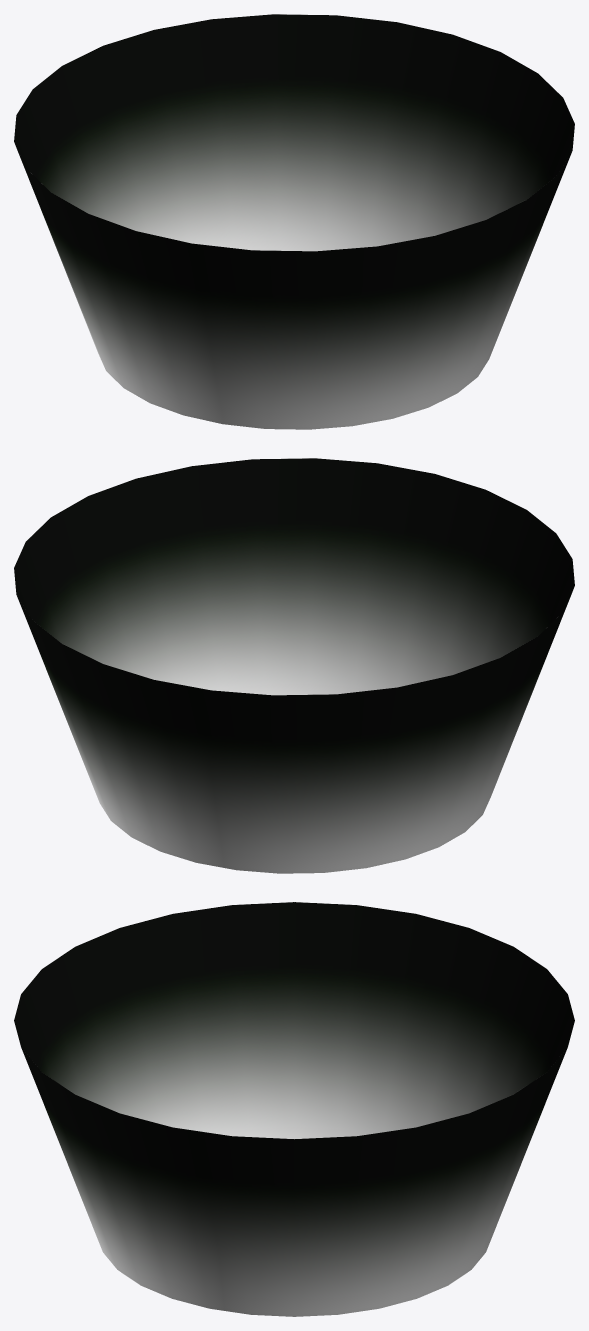
The model's file is Light.FBX.
3 renders of one model, top to bottom at view 1: azimuth 30°, elevation 25°; view 2: azimuth 150°, elevation 25°; view 3: azimuth 270°, elevation 25°, orthographic.
Parts seen in each view (by area): view 1: Light; view 2: Light; view 3: Light.
Boxes of the visible parts, box(x1,y1,x2,y2) form: Light: box(14, 14, 574, 429); Light: box(14, 458, 574, 873); Light: box(14, 902, 574, 1316).
Size of the model in its own units: 99.74 by 41.83 by 99.74.
1 material, 1 textured.
